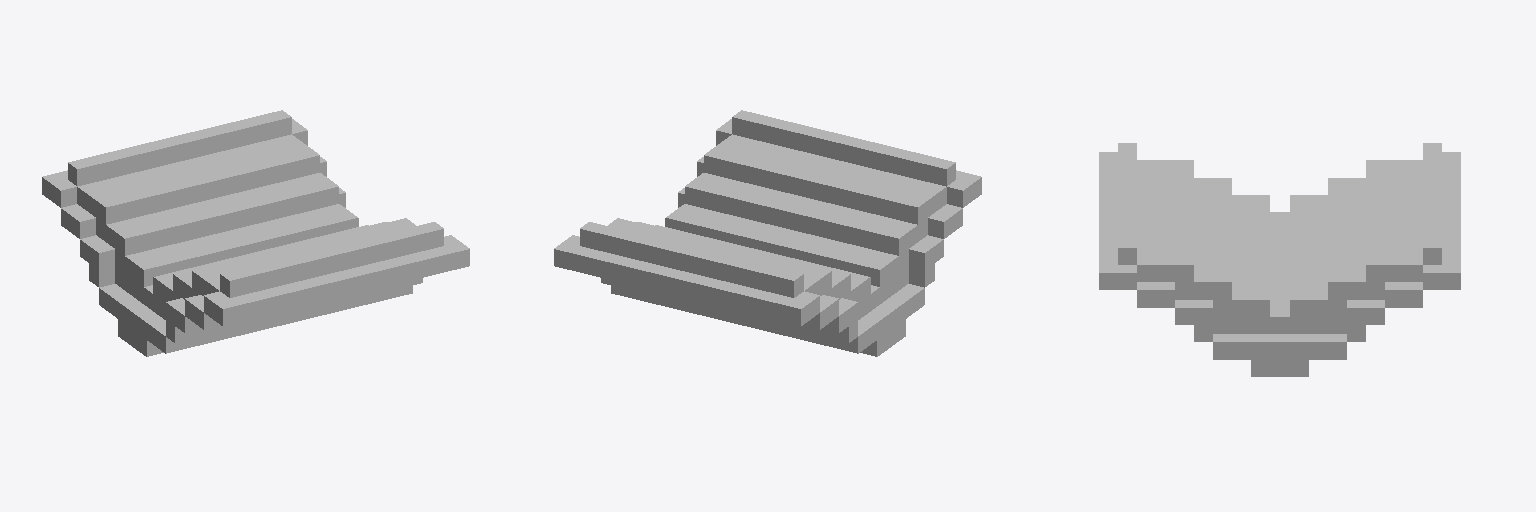
Rendered from SpellBook.obj.
3 views of the same model, side by side, from view 1: azimuth 30°, elevation 25°; view 2: azimuth 150°, elevation 25°; view 3: azimuth 270°, elevation 25° (orthographic).
Size of the model in its own units: 15 by 7 by 19.